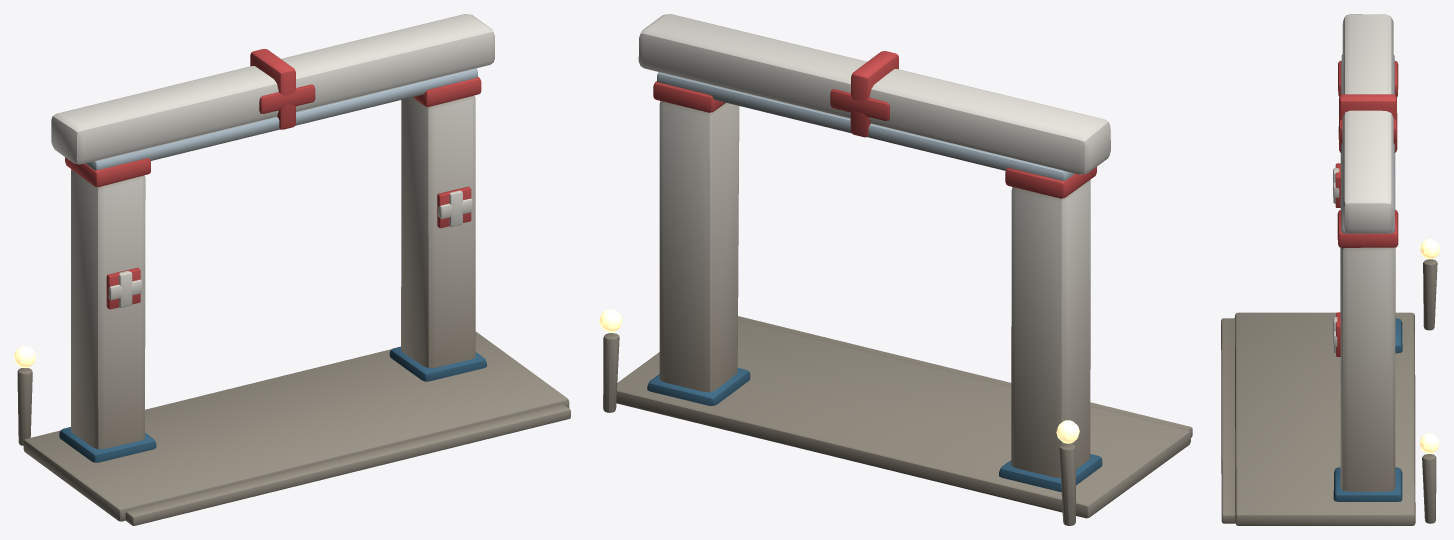
3 views of the same model, side by side, from view 1: azimuth 30°, elevation 25°; view 2: azimuth 150°, elevation 25°; view 3: azimuth 270°, elevation 25° (orthographic). The views are drawn at different scales.
Visible parts, largest first — view 1: gate_7a8b760d; view 2: gate_7a8b760d; view 3: gate_7a8b760d.
Part boxes in pixels (x1,y1,x2,y2): gate_7a8b760d: [14, 14, 570, 525]; gate_7a8b760d: [599, 14, 1192, 525]; gate_7a8b760d: [1221, 14, 1439, 525].
Bounding box in the file's own units: 5.62 × 4.24 × 2.55.
